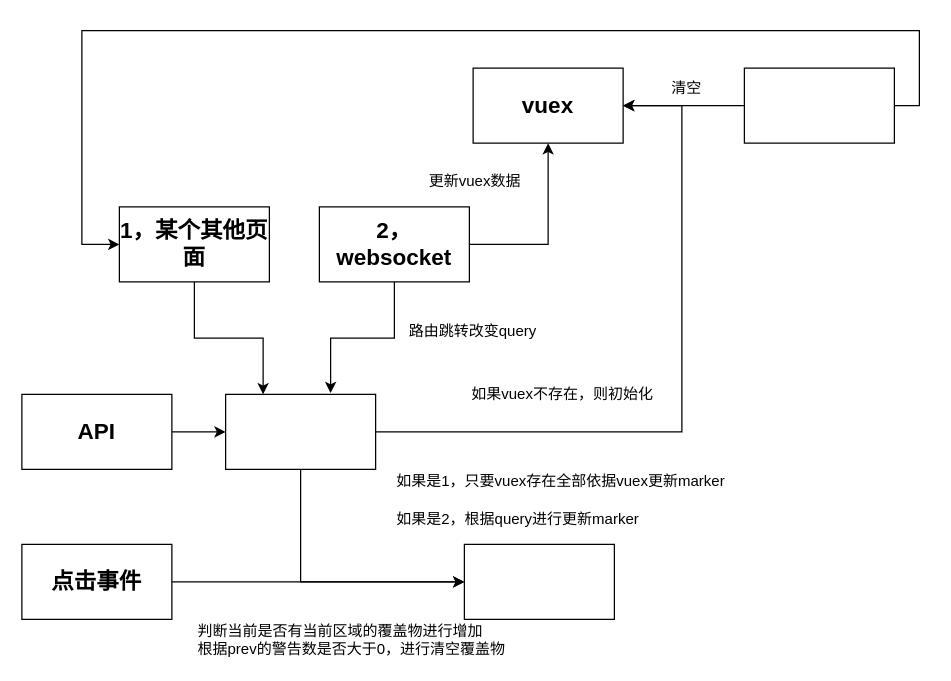
This 951x681 diagram has some shape labels left out. Each missing label, with the box of its shape:
marker: (463, 543, 614, 619)
进入home: (224, 393, 376, 469)
退出登陆: (743, 67, 894, 143)
